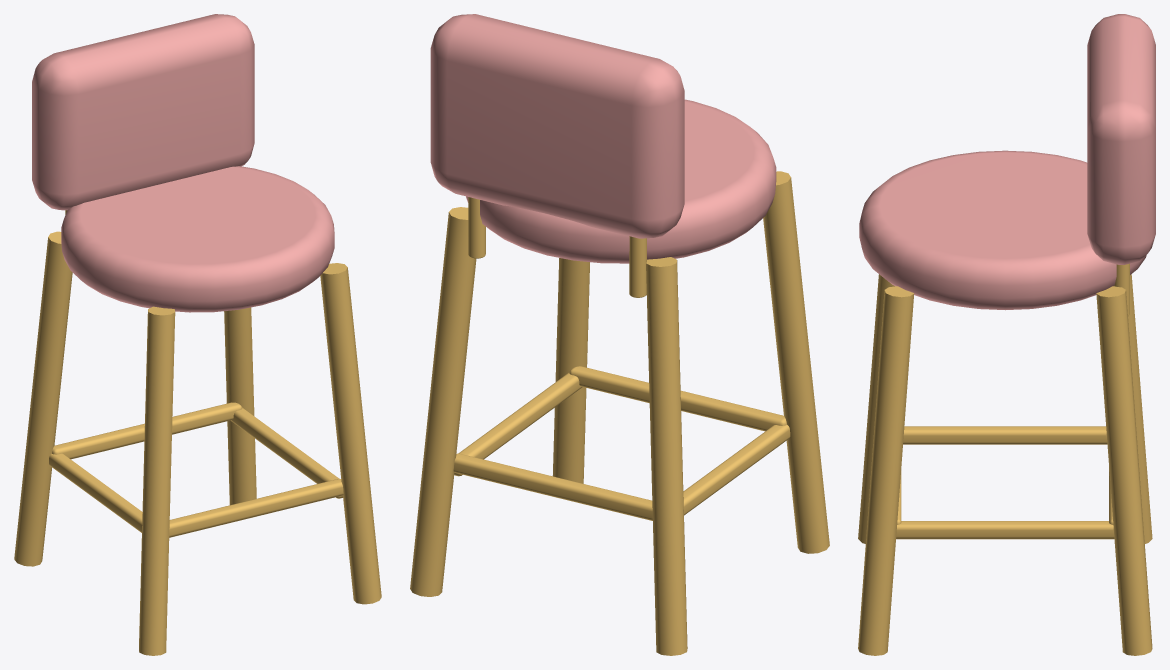
File: kitchenBarStoolVelvet.glb
The picture shows the model from 3 angles, left to right: view 1: azimuth 30°, elevation 25°; view 2: azimuth 150°, elevation 25°; view 3: azimuth 270°, elevation 25°; orthographic projection. The views are drawn at different scales.
Visible parts, largest first — view 1: Velvet bar stool back, Rounded bar stool seat, Splayed chair leg.002, Splayed chair leg, Splayed chair leg.001, Splayed chair leg.003, Bar stool cross rail, Bar stool cross rail.001, Bar stool foot rail.001, Bar stool foot rail; view 2: Velvet bar stool back, Rounded bar stool seat, Splayed chair leg.001, Splayed chair leg.003, Splayed chair leg, Splayed chair leg.002, Bar stool cross rail.001, Bar stool cross rail, Bar stool foot rail.001, Bar stool foot rail, Back support, Back support.001; view 3: Rounded bar stool seat, Velvet bar stool back, Splayed chair leg.003, Splayed chair leg.002, Bar stool foot rail.001, Bar stool foot rail, Splayed chair leg, Splayed chair leg.001.
Part boxes in pixels (left/top/right/bottom): Velvet bar stool back: left=32, top=14, right=254, bottom=210; Rounded bar stool seat: left=61, top=166, right=334, bottom=312; Splayed chair leg.002: left=320, top=263, right=381, bottom=604; Splayed chair leg: left=139, top=306, right=175, bottom=655; Splayed chair leg.001: left=14, top=231, right=72, bottom=566; Splayed chair leg.003: left=224, top=307, right=256, bottom=505; Bar stool cross rail: left=169, top=478, right=343, bottom=537; Bar stool cross rail.001: left=52, top=402, right=242, bottom=459; Bar stool foot rail.001: left=231, top=407, right=342, bottom=498; Bar stool foot rail: left=49, top=453, right=142, bottom=532; Velvet bar stool back: left=430, top=14, right=684, bottom=238; Rounded bar stool seat: left=466, top=99, right=776, bottom=263; Splayed chair leg.001: left=646, top=257, right=687, bottom=655; Splayed chair leg.003: left=410, top=207, right=476, bottom=596; Splayed chair leg: left=763, top=171, right=829, bottom=553; Splayed chair leg.002: left=552, top=258, right=589, bottom=483; Bar stool cross rail.001: left=453, top=453, right=652, bottom=520; Bar stool cross rail: left=569, top=366, right=786, bottom=431; Bar stool foot rail.001: left=454, top=372, right=582, bottom=476; Bar stool foot rail: left=683, top=425, right=790, bottom=515; Back support: left=629, top=236, right=646, bottom=297; Back support.001: left=468, top=197, right=485, bottom=258; Rounded bar stool seat: left=859, top=150, right=1146, bottom=310; Velvet bar stool back: left=1087, top=14, right=1155, bottom=264; Splayed chair leg.003: left=1096, top=286, right=1152, bottom=655; Splayed chair leg.002: left=858, top=286, right=914, bottom=655; Bar stool foot rail.001: left=896, top=521, right=1114, bottom=539; Bar stool foot rail: left=903, top=426, right=1107, bottom=444; Splayed chair leg: left=858, top=274, right=894, bottom=543; Splayed chair leg.001: left=1128, top=274, right=1152, bottom=543.
Size of the model in its own units: 0.6451 by 1.3 by 0.6525.
